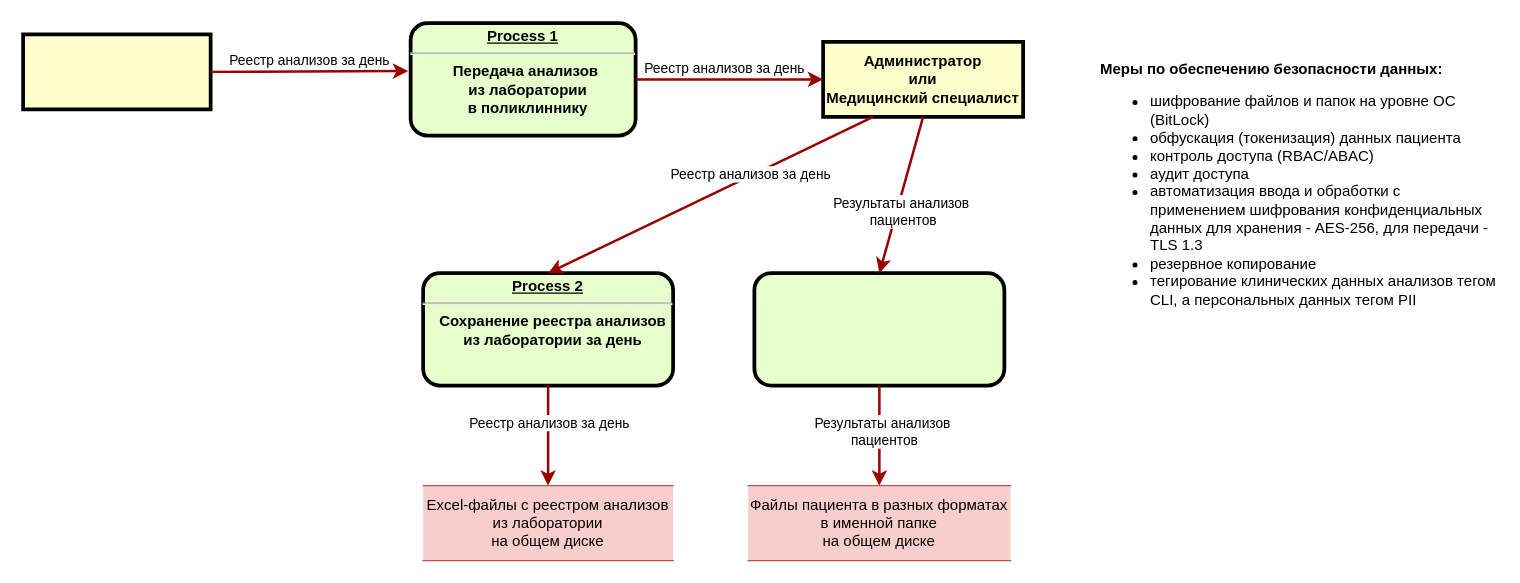
Some shapes in this 1520 by 583 pixel diagram are drawn without their labels. Here are the shapes that lost their labels. From the top down, the centre of each, then its label:
At [116,71]: "Лаборатория".
At [879,329]: "Process 3 Разбор реестра анализов из лаборатории за день".
